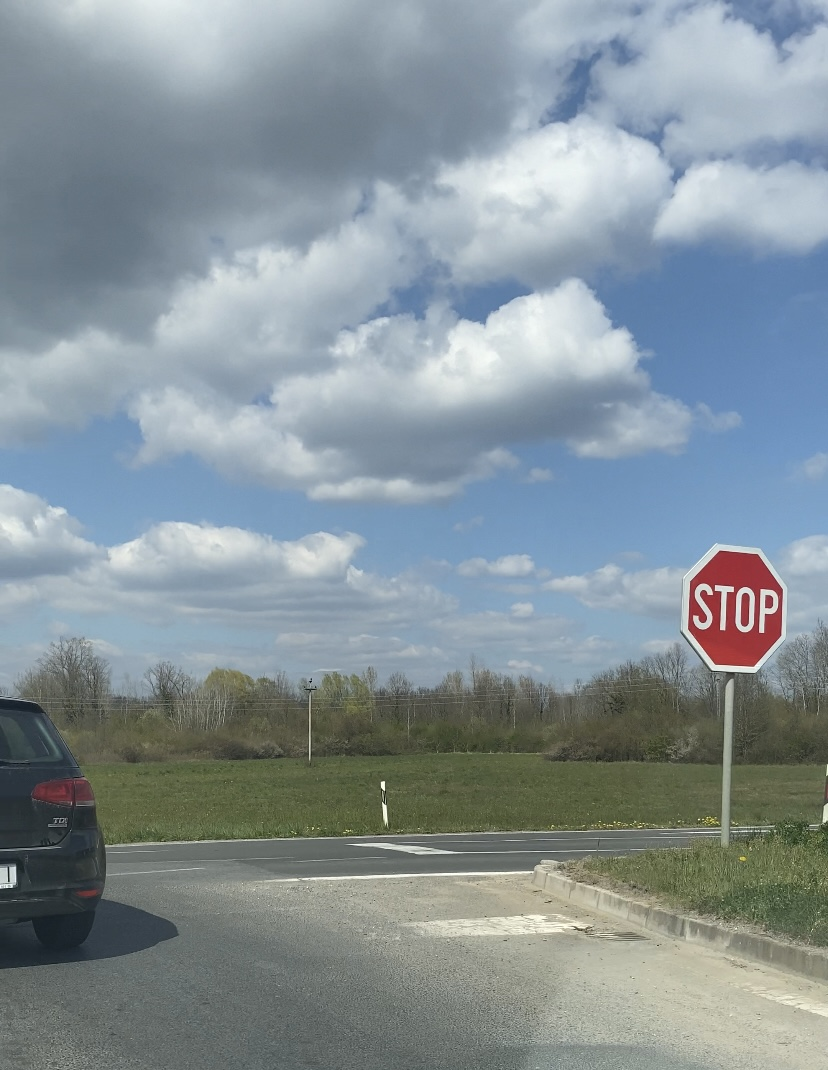Obavezno zaustavljanje: (679, 542, 787, 673)
